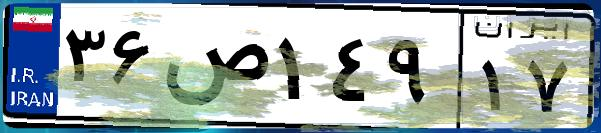1: (270, 28, 330, 110), (475, 38, 525, 113)
3: (57, 26, 110, 100)
4: (330, 28, 385, 110)
6: (110, 28, 158, 98)
7: (525, 38, 570, 115)
9: (385, 28, 445, 110)
ص: (158, 20, 270, 120)
